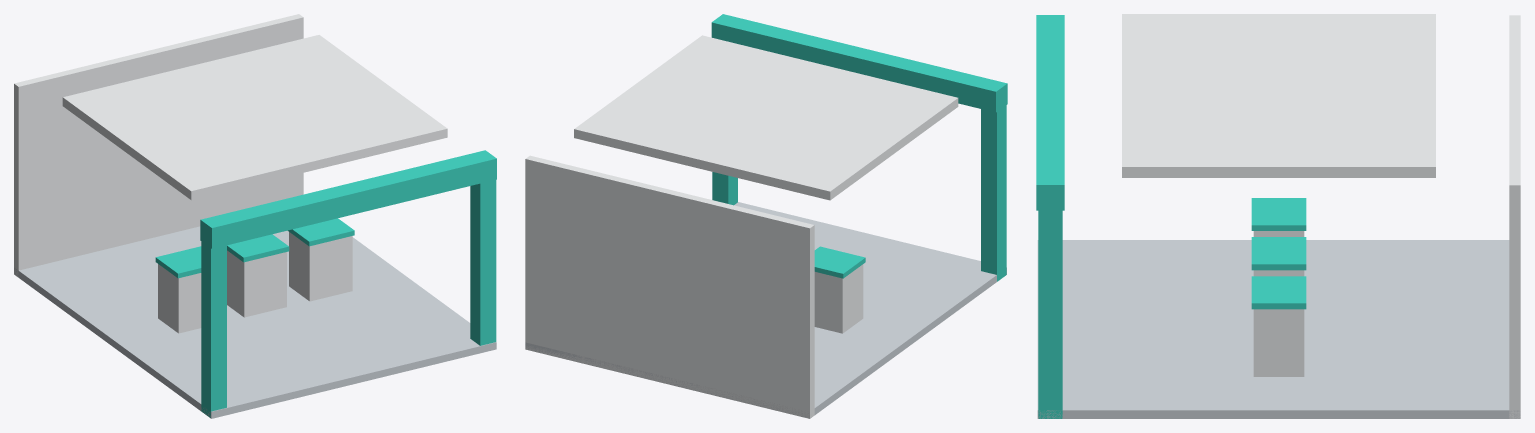
The picture shows the model from 3 angles, left to right: view 1: azimuth 30°, elevation 25°; view 2: azimuth 150°, elevation 25°; view 3: azimuth 270°, elevation 25°; orthographic projection. The views are drawn at different scales.
Parts seen in each view (by area): view 1: Exhibition Booth Concept; view 2: Exhibition Booth Concept; view 3: Exhibition Booth Concept.
Part boxes in pixels (x1,y1,x2,y2): Exhibition Booth Concept: (14,14,496,418); Exhibition Booth Concept: (525,14,1007,418); Exhibition Booth Concept: (1036,14,1520,418).
Size of the model in its own units: 5 by 3.34 by 6.02.
